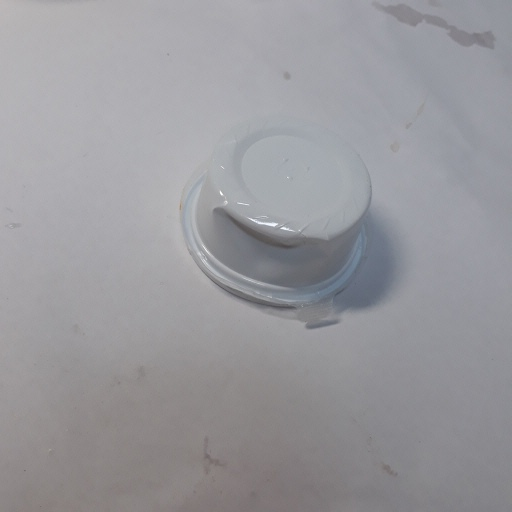Plastic_5: (177, 112, 377, 331)
